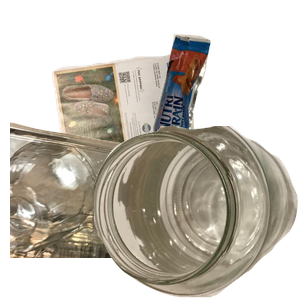glass: (94, 126, 300, 300)
paper: (49, 51, 235, 212)
plastic: (10, 120, 250, 300)
trash: (149, 31, 300, 179)
